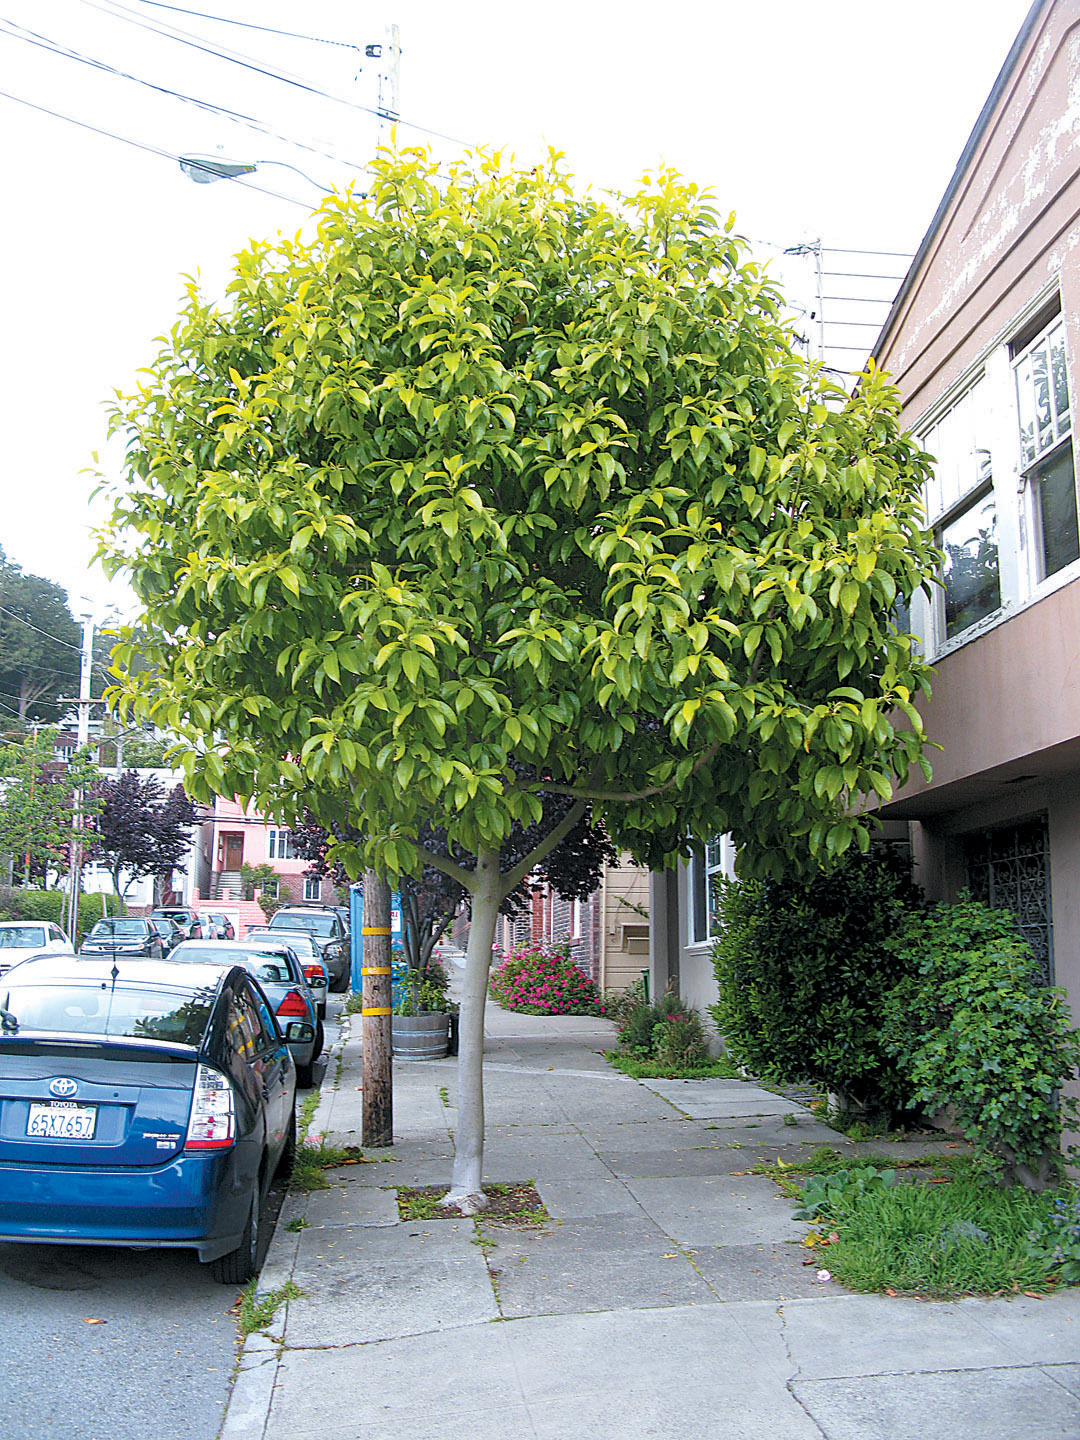tree: (75, 119, 950, 1230)
